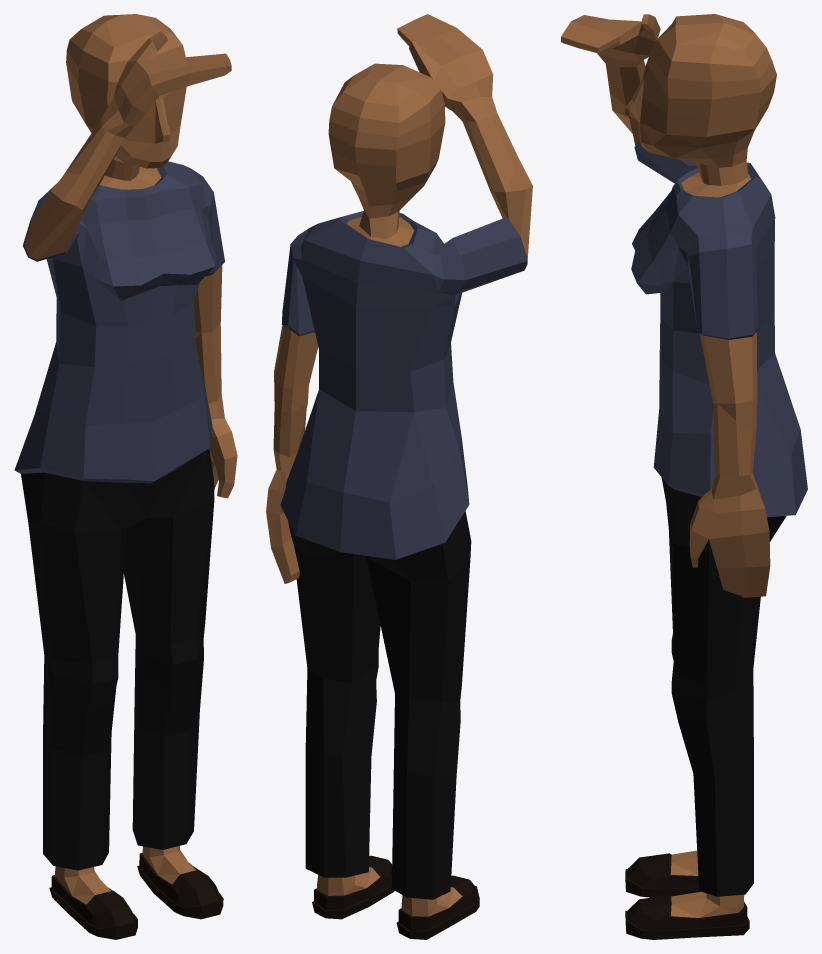
File: Female_Standing_CoveringEyes.obj
The picture shows the model from 3 angles, left to right: view 1: azimuth 30°, elevation 25°; view 2: azimuth 150°, elevation 25°; view 3: azimuth 270°, elevation 25°; orthographic projection. The views are drawn at different scales.
Visible parts, largest first — view 1: Female_Standing_CoveringEyes_Cylinder.008; view 2: Female_Standing_CoveringEyes_Cylinder.008; view 3: Female_Standing_CoveringEyes_Cylinder.008.
Boxes of the visible parts, left/top/right/bottom form: Female_Standing_CoveringEyes_Cylinder.008: left=14, top=14, right=237, bottom=939; Female_Standing_CoveringEyes_Cylinder.008: left=266, top=14, right=532, bottom=939; Female_Standing_CoveringEyes_Cylinder.008: left=561, top=14, right=807, bottom=939.
Bounding box in the file's own units: 1.02 × 3.77 × 0.9409.
